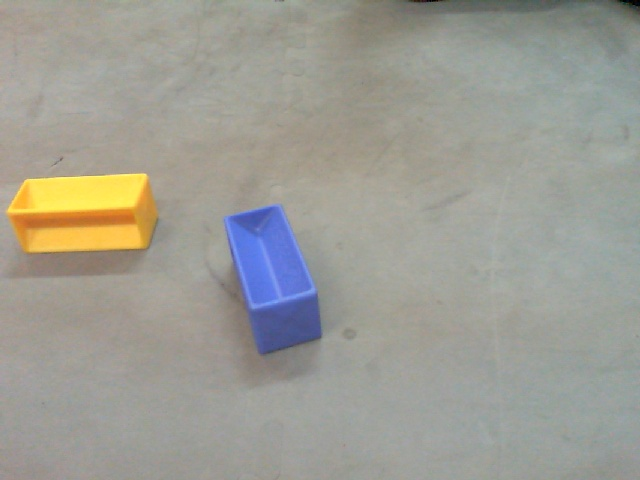BlueSample: (220, 201, 336, 360)
YellowSample: (5, 173, 164, 253)
